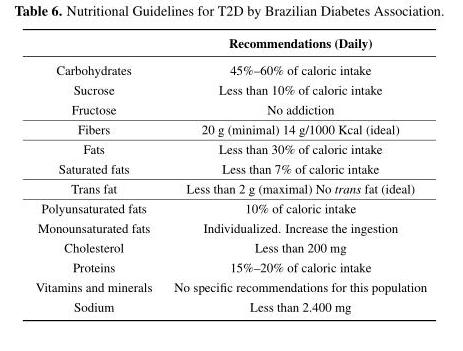table: (34, 34, 426, 314)
table column: (162, 34, 426, 314), (34, 34, 162, 314)
table column header: (34, 34, 426, 56)
table row: (34, 56, 426, 79), (34, 34, 426, 56), (34, 79, 426, 99), (34, 99, 426, 119), (34, 138, 426, 158), (34, 158, 426, 178), (34, 178, 426, 198), (34, 217, 426, 237), (34, 237, 426, 257), (34, 257, 426, 277), (34, 119, 426, 138), (34, 198, 426, 217), (34, 277, 426, 296), (34, 296, 426, 314)
